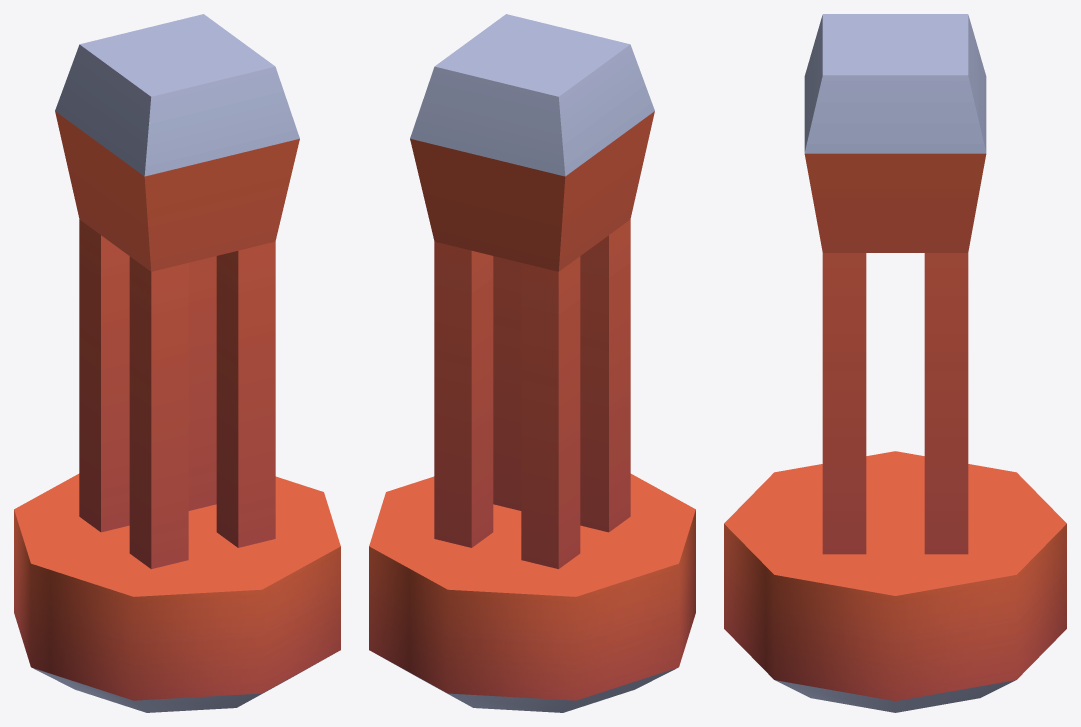
The model's file is k-watercraft-buoy.glb.
3 renders of one model, left to right at view 1: azimuth 30°, elevation 25°; view 2: azimuth 150°, elevation 25°; view 3: azimuth 270°, elevation 25°, orthographic.
Parts seen in each view (by area): view 1: buoy; view 2: buoy; view 3: buoy.
Boxes of the visible parts, x1,y1,x2,y2 form: buoy: (14,14,340,712); buoy: (369,14,695,712); buoy: (724,14,1066,712).
Bounding box in the file's own units: 0.9283 × 1.84 × 0.9283.
Materials: 1 (1 with a texture image).
